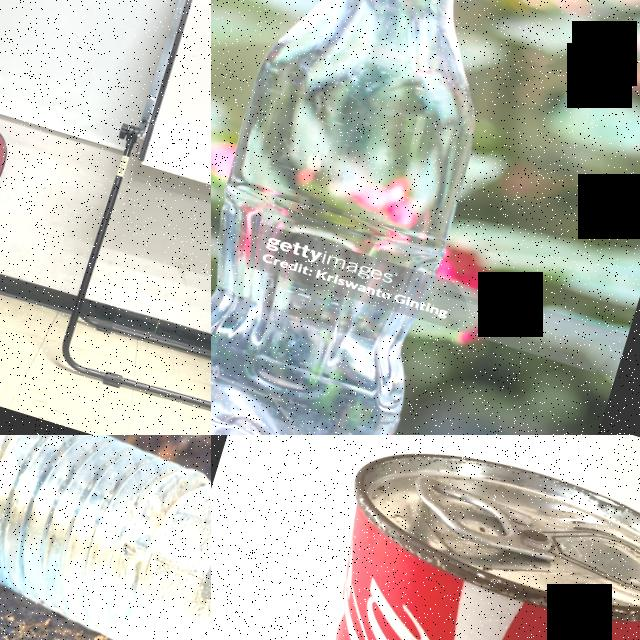bottle: (211, 0, 554, 435), (0, 435, 211, 640)
can: (211, 435, 640, 640)
